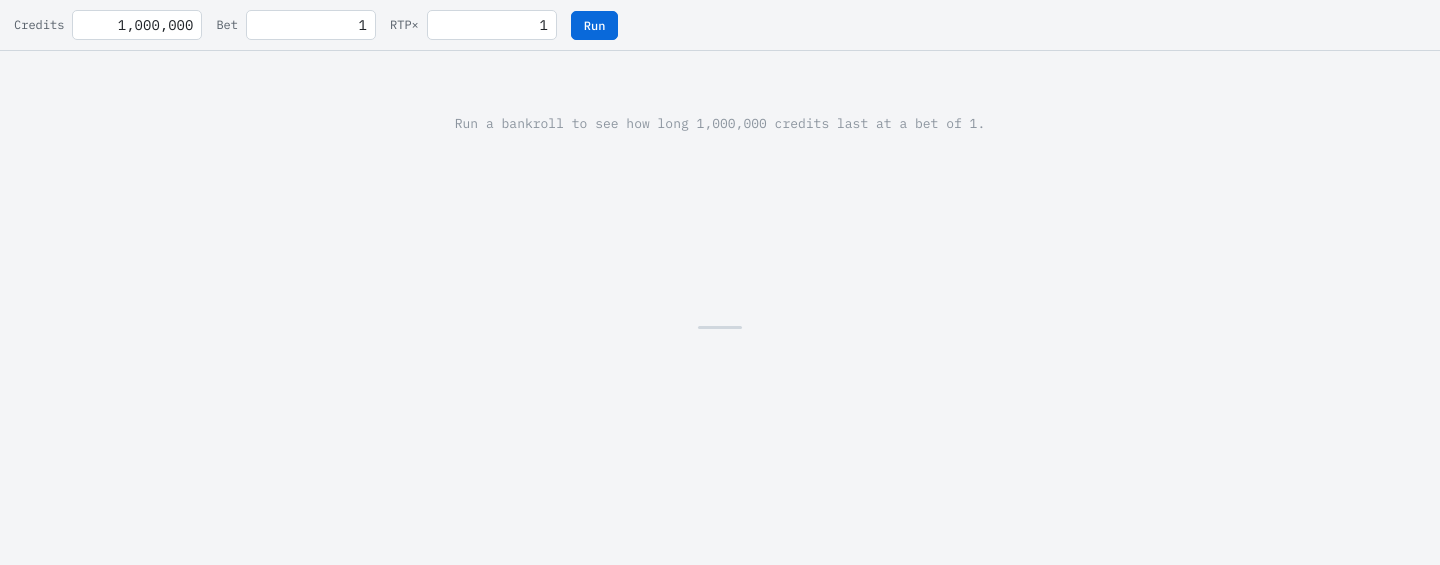
Test: BankrollSim runs › offers no Continue after a bust
Click the button "Run" at (595, 25), box [571,10,618,40]
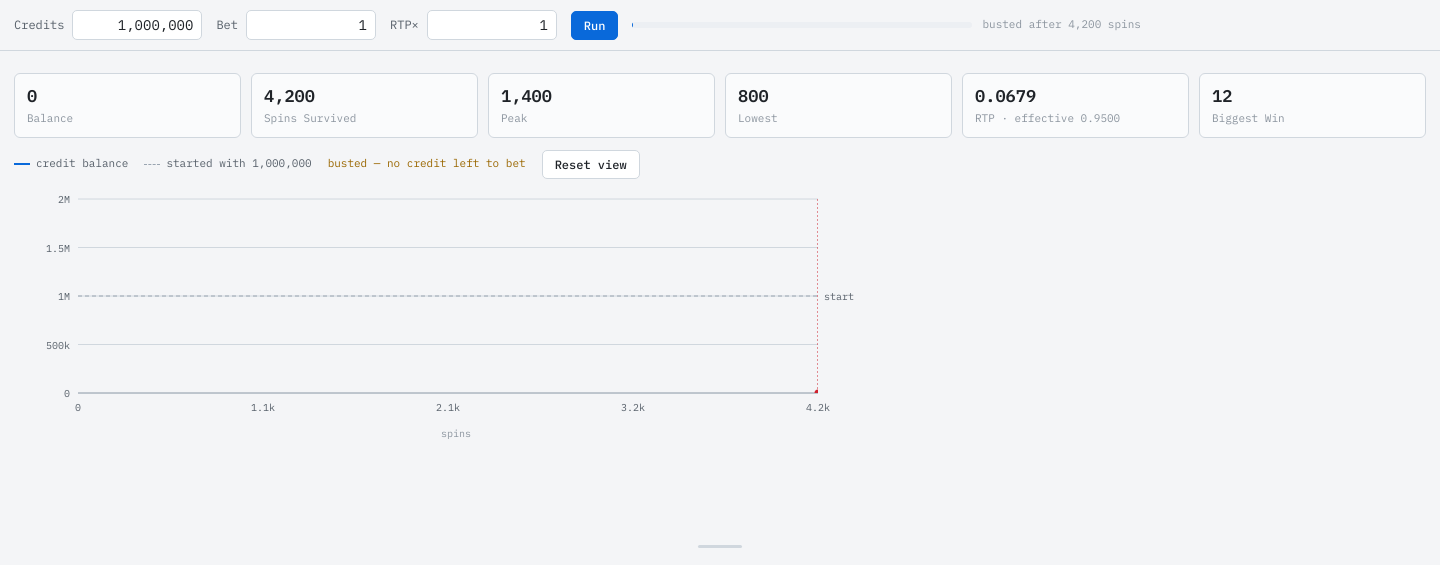
Check: the text with class "sim-progress-text" reads "busted after 4,200 spins", box [982,17,1141,31]
